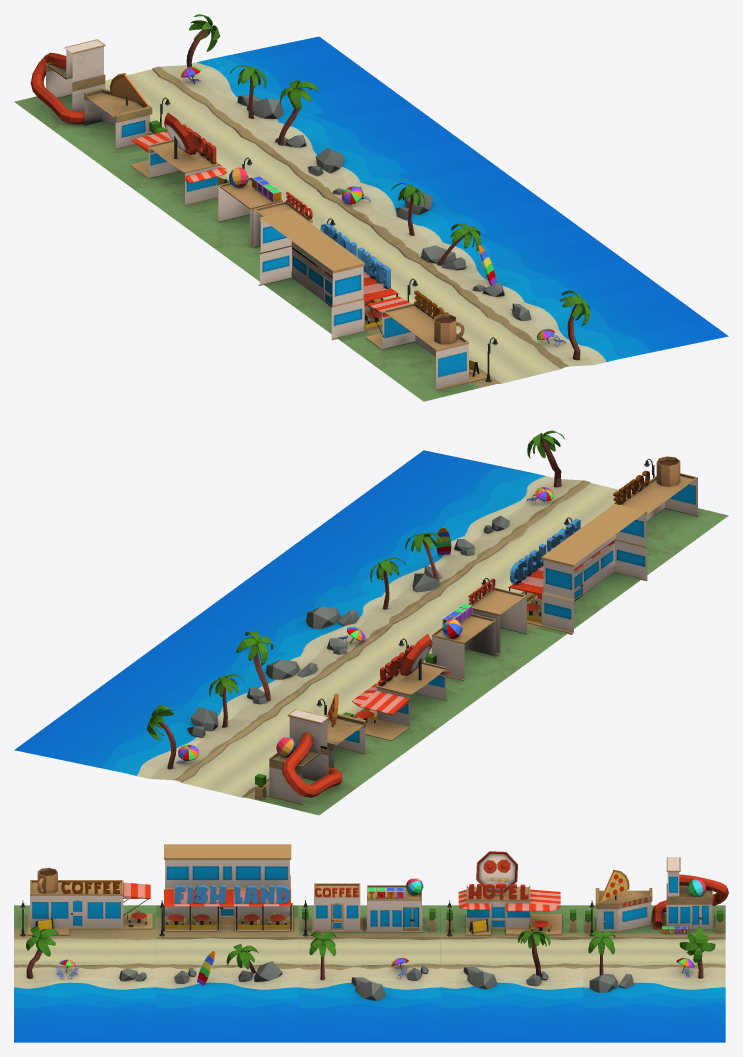
The model's file is Beach_Map01.fbx.
The picture shows the model from 3 angles, top to bottom: view 1: azimuth 30°, elevation 25°; view 2: azimuth 150°, elevation 25°; view 3: azimuth 270°, elevation 25°; orthographic projection. The views are drawn at different scales.
Parts seen in each view (by area): view 1: B_map04, B_map01, B_map05, B_map02, B_map03; view 2: B_map01, B_map04, B_map03, B_map02, B_map05; view 3: B_map04, B_map01, B_map02, B_map05, B_map03.
Boxes of the visible parts, x1,y1,x2,y2 form: B_map04: (258,209,646,341); B_map01: (14,14,400,161); B_map05: (342,276,728,401); B_map02: (96,79,482,221); B_map03: (178,156,564,281); B_map01: (14,674,400,815); B_map04: (260,503,647,635); B_map03: (178,557,564,695); B_map02: (96,630,482,755); B_map05: (342,430,728,574); B_map04: (156,844,298,1042); B_map01: (583,857,728,1042); B_map02: (441,851,583,1042); B_map05: (14,867,156,1042); B_map03: (298,878,440,1042).
Size of the model in its own units: 8753 by 2500 by 20091.
